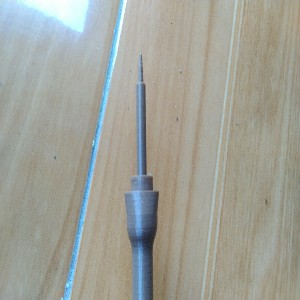solder: (124, 51, 161, 300)
